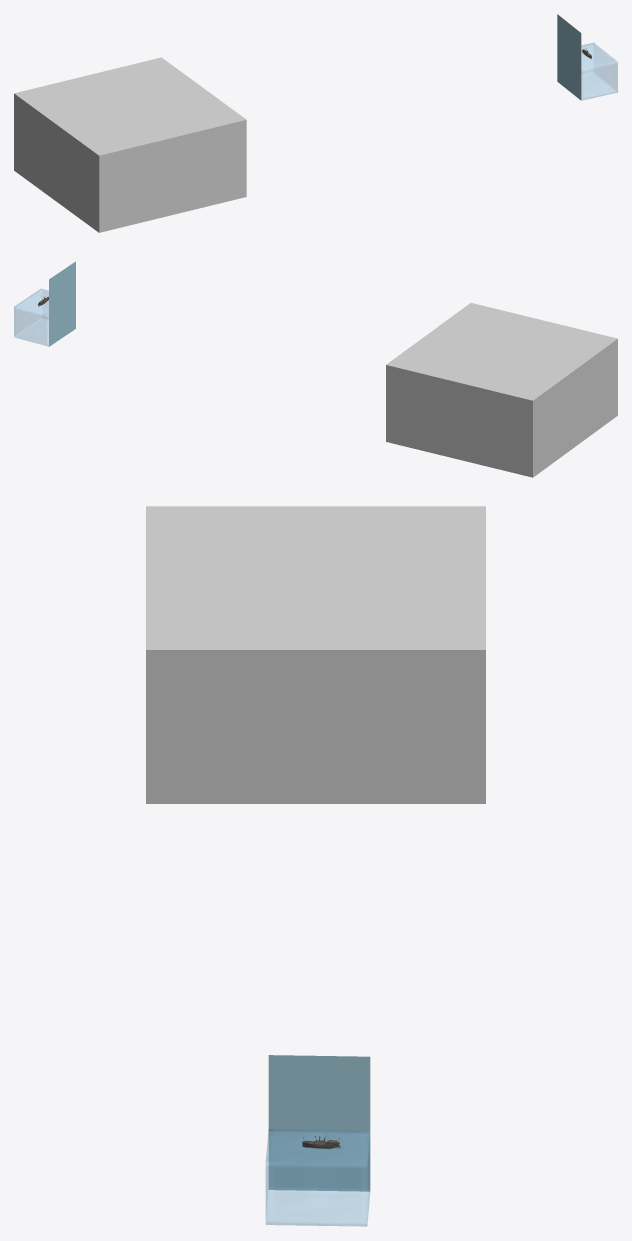
The model's file is oleo.glb.
The picture shows the model from 3 angles, top to bottom: view 1: azimuth 30°, elevation 25°; view 2: azimuth 150°, elevation 25°; view 3: azimuth 270°, elevation 25°; orthographic projection. The views are drawn at different scales.
Visible parts, largest first — view 1: Simple waves / ocean modifier, ocean, fundo; view 2: Simple waves / ocean modifier, fundo, ocean; view 3: Simple waves / ocean modifier, fundo, ocean.
Part boxes in pixels (bbox=[...]): Simple waves / ocean modifier: bbox=[14, 57, 246, 232]; ocean: bbox=[581, 43, 617, 100]; fundo: bbox=[557, 14, 581, 100]; Simple waves / ocean modifier: bbox=[386, 303, 617, 477]; fundo: bbox=[49, 261, 75, 346]; ocean: bbox=[14, 289, 48, 346]; Simple waves / ocean modifier: bbox=[146, 506, 485, 803]; fundo: bbox=[268, 1055, 370, 1191]; ocean: bbox=[266, 1129, 369, 1226].
Size of the model in its own units: 14.92 by 2.4 by 4.
Materials: 5 (1 with a texture image).
